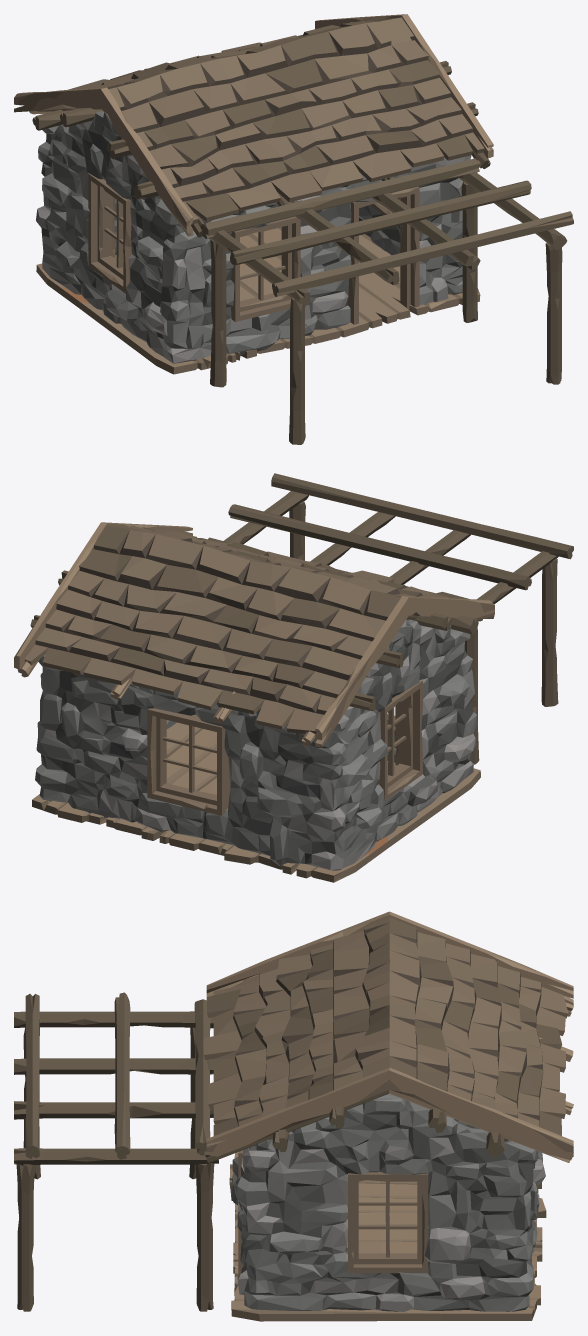
File: SM_Bld_Stone_Cabin_01.glb
The picture shows the model from 3 angles, top to bottom: view 1: azimuth 30°, elevation 25°; view 2: azimuth 150°, elevation 25°; view 3: azimuth 270°, elevation 25°; orthographic projection. The views are drawn at different scales.
Visible parts, largest first — view 1: SM_Bld_Stone_Cabin_01; view 2: SM_Bld_Stone_Cabin_01; view 3: SM_Bld_Stone_Cabin_01.
Boxes of the visible parts, bbox=[...] form: SM_Bld_Stone_Cabin_01: bbox=[14, 14, 573, 444]; SM_Bld_Stone_Cabin_01: bbox=[14, 473, 573, 882]; SM_Bld_Stone_Cabin_01: bbox=[14, 911, 573, 1321].
Bounding box in the file's own units: 5.99 × 4.04 × 8.11.
Materials: 1 (1 with a texture image).
